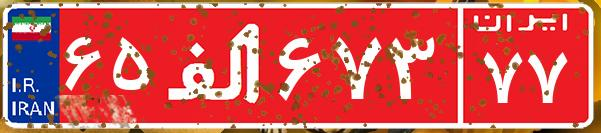3: (385, 28, 445, 110)
5: (110, 28, 158, 105)
6: (273, 28, 330, 110), (57, 26, 110, 107)
7: (330, 28, 385, 110), (475, 38, 525, 113), (525, 38, 570, 115)
الف: (158, 15, 273, 115)
